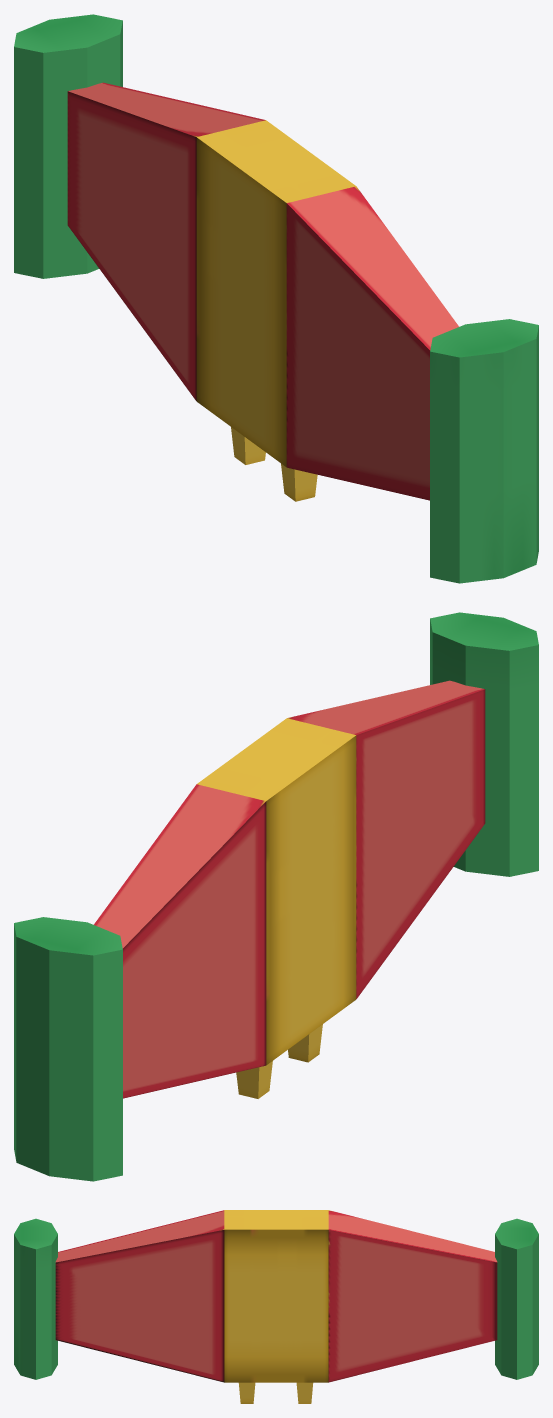
Rendered from booster.fbx.
3 views of the same model, one above another, from view 1: azimuth 30°, elevation 25°; view 2: azimuth 150°, elevation 25°; view 3: azimuth 270°, elevation 25° (orthographic). The views are drawn at different scales.
Parts seen in each view (by area): view 1: booster; view 2: booster; view 3: booster.
Boxes of the visible parts, x1,y1,x2,y2 form: booster: (14, 14, 538, 583); booster: (14, 612, 538, 1181); booster: (14, 1210, 538, 1403).
Size of the model in its own units: 40.64 by 112 by 294.
